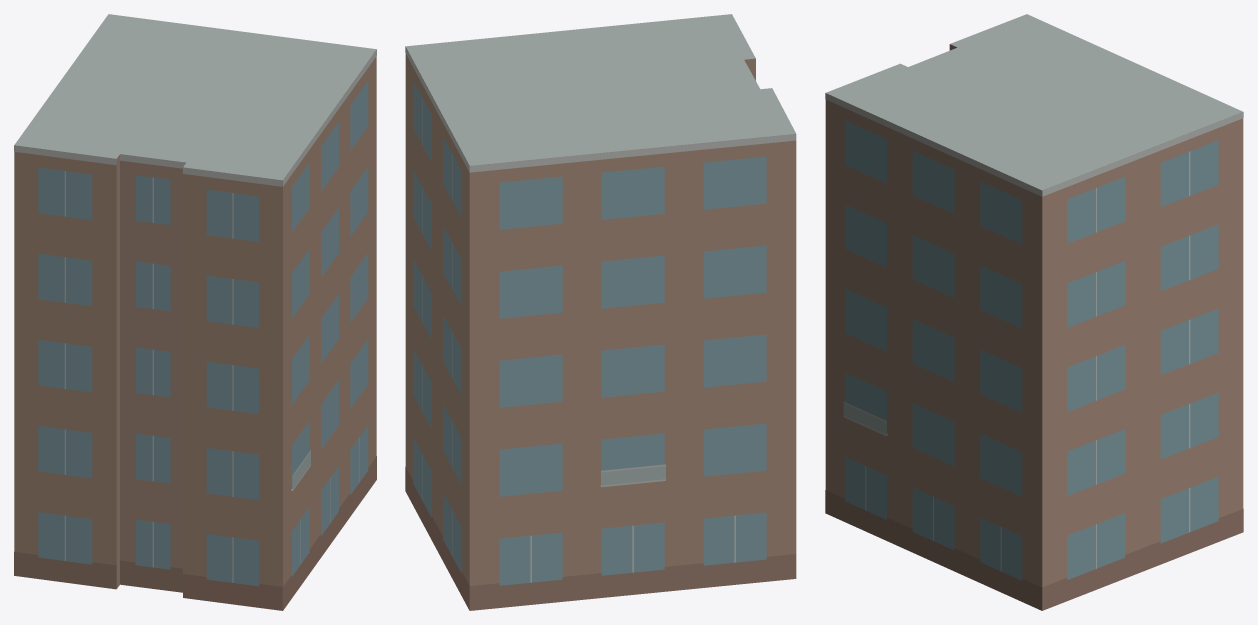
The model's file is survey-upis-33017446.glb.
3 renders of one model, left to right at view 1: azimuth 30°, elevation 25°; view 2: azimuth 150°, elevation 25°; view 3: azimuth 270°, elevation 25°, orthographic. The views are drawn at different scales.
Parts seen in each view (by area): view 1: survey-upis-33017446.tmp; view 2: survey-upis-33017446.tmp; view 3: survey-upis-33017446.tmp.
Boxes of the visible parts, x1,y1,x2,y2 form: survey-upis-33017446.tmp: (14, 14, 376, 610); survey-upis-33017446.tmp: (405, 14, 796, 610); survey-upis-33017446.tmp: (825, 14, 1243, 610).
Size of the model in its own units: 14.59 by 16.2 by 14.61.
